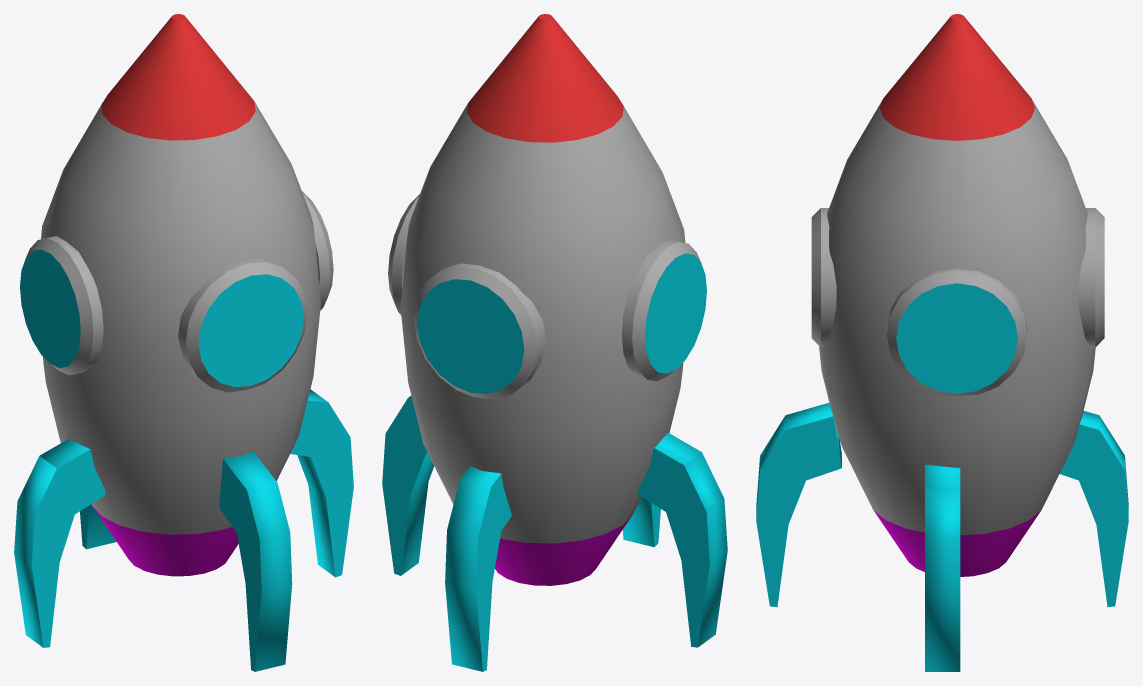
File: Rocket_low_poly.fbx
3 renders of one model, left to right at view 1: azimuth 30°, elevation 25°; view 2: azimuth 150°, elevation 25°; view 3: azimuth 270°, elevation 25°, orthographic.
Parts seen in each view (by area): view 1: polySurface2097; view 2: polySurface2097; view 3: polySurface2097.
Boxes of the visible parts, x1,y1,x2,y2 form: polySurface2097: [14, 14, 353, 671]; polySurface2097: [382, 14, 727, 671]; polySurface2097: [756, 14, 1128, 671].
Bounding box in the file's own units: 192 × 332 × 192.
